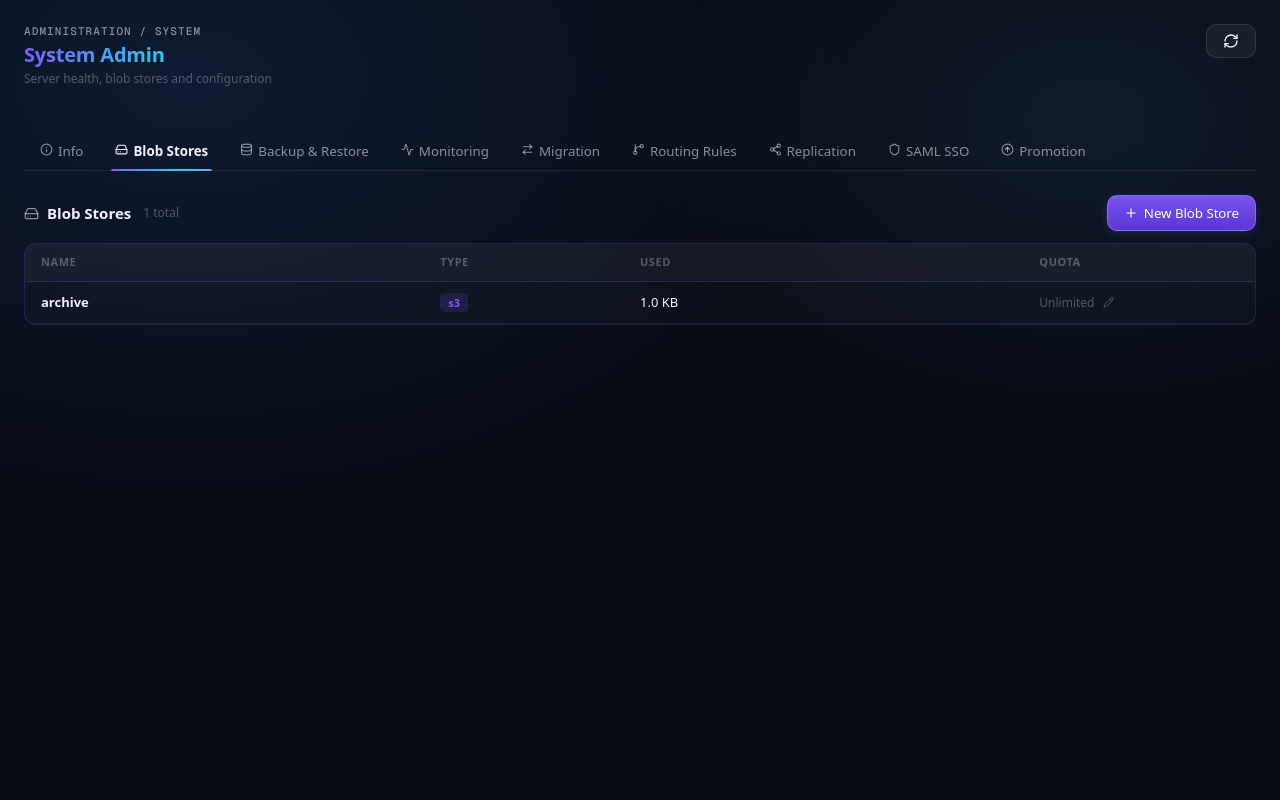
AdminPage — Blob Stores tab › never receives the S3 secret key from the API
What coordinates should you click on to do the following:
click the text "archive"
I would click on:
 (65, 302)
Its box is [41,293,89,311].
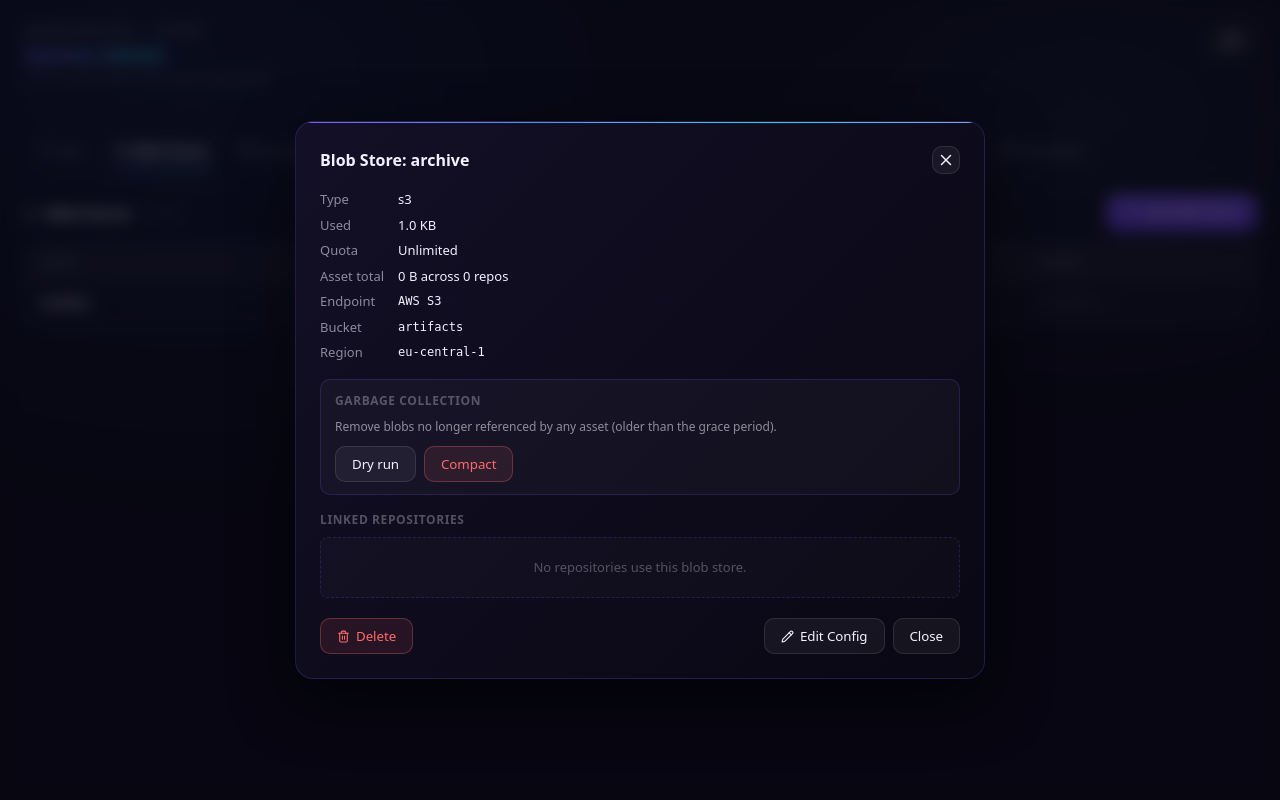
Now the heading "Blob Store: archive" is shown, box [320,148,469,172]
What coordinates should you click on to do the following:
click the button "Edit Config"
I would click on:
 (824, 636)
Its box is [764,618,884,654].
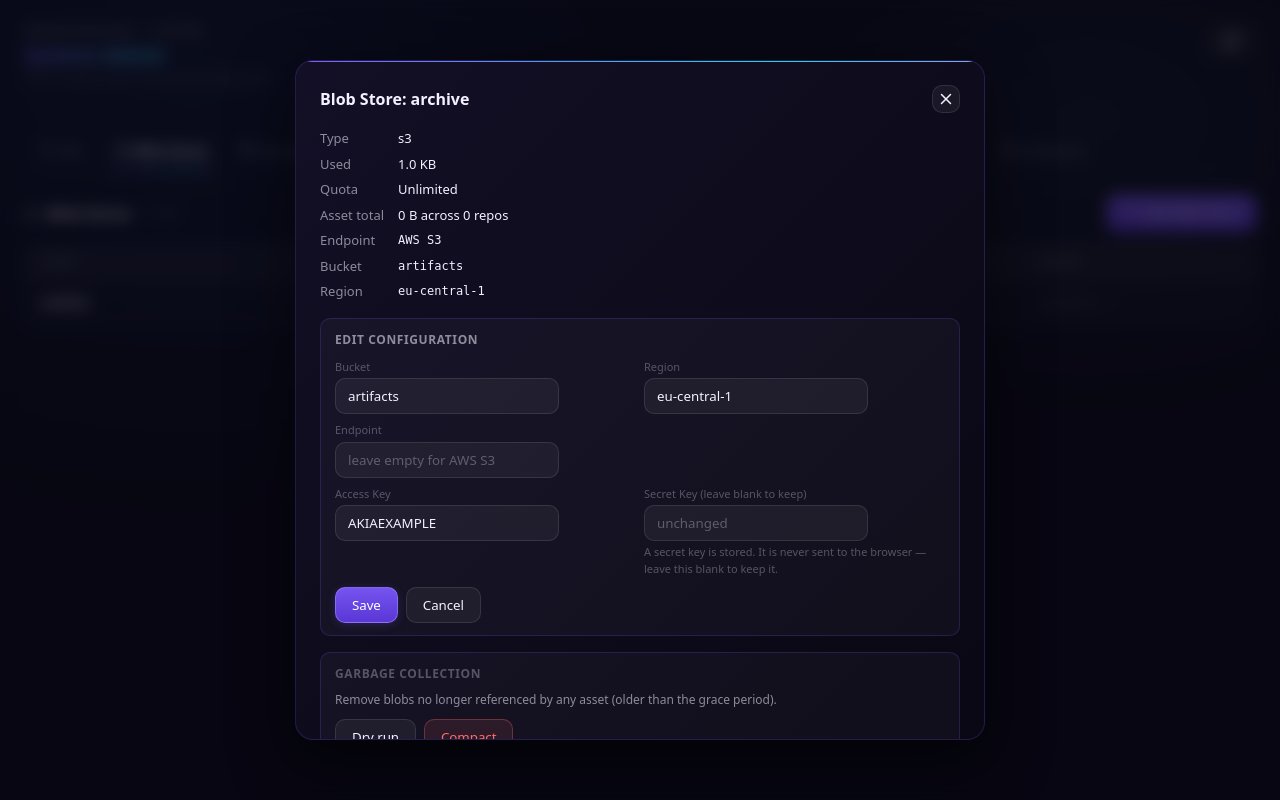
Now the text "Edit Configuration" is shown, box [335,330,478,348]
Now the text "A secret key is stored" is shown, box [644,544,926,576]
